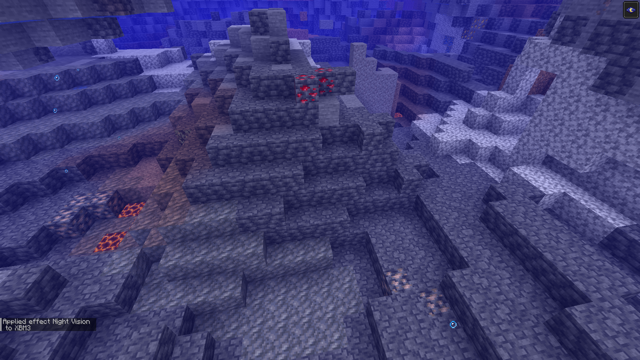iron: (45, 189, 121, 241), (380, 268, 414, 296), (417, 289, 450, 316)
redstone: (294, 64, 335, 102)
